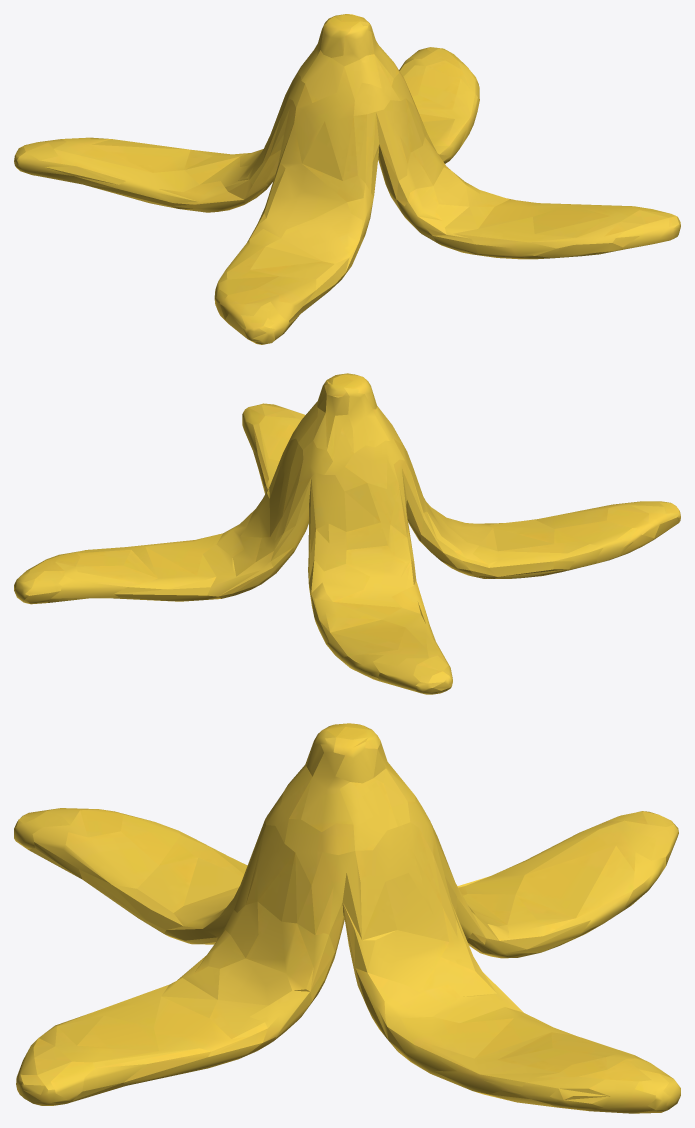
File: peel.glb
3 renders of one model, top to bottom at view 1: azimuth 30°, elevation 25°; view 2: azimuth 150°, elevation 25°; view 3: azimuth 270°, elevation 25°, orthographic. The views are drawn at different scales.
Parts seen in each view (by area): view 1: Mesh_0; view 2: Mesh_0; view 3: Mesh_0.
Boxes of the visible parts, x1,y1,x2,y2 form: Mesh_0: (14,14,680,344); Mesh_0: (14,373,680,694); Mesh_0: (14,723,680,1113).
Bounding box in the file's own units: 1.9 × 0.8044 × 1.9.
Materials: 1 (1 with a texture image).
